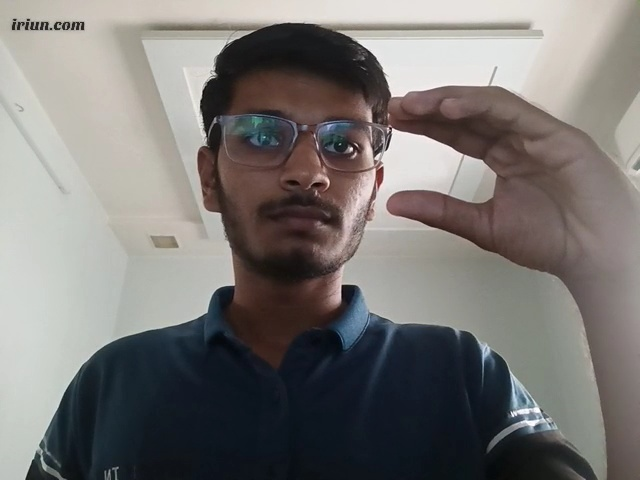No: (380, 84, 640, 278)
